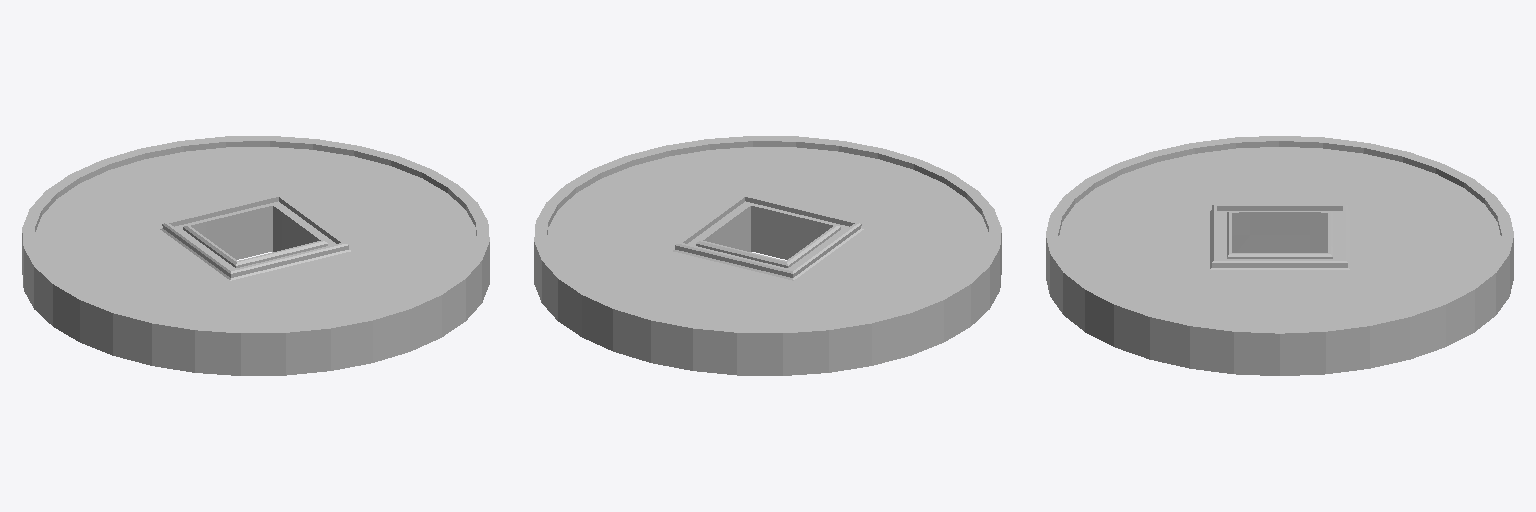
Rendered from coins 4 blender file 003.obj.
The picture shows the model from 3 angles: view 1: azimuth 30°, elevation 25°; view 2: azimuth 150°, elevation 25°; view 3: azimuth 270°, elevation 25°; orthographic projection.
Parts seen in each view (by area): view 1: COIN_1_HIGH+; view 2: COIN_1_HIGH+; view 3: COIN_1_HIGH+.
Part boxes in pixels (bbox=[...]): COIN_1_HIGH+: bbox=[22, 136, 489, 375]; COIN_1_HIGH+: bbox=[534, 136, 1001, 375]; COIN_1_HIGH+: bbox=[1046, 136, 1513, 375].
Size of the model in its own units: 1.99 by 0.2154 by 1.99.